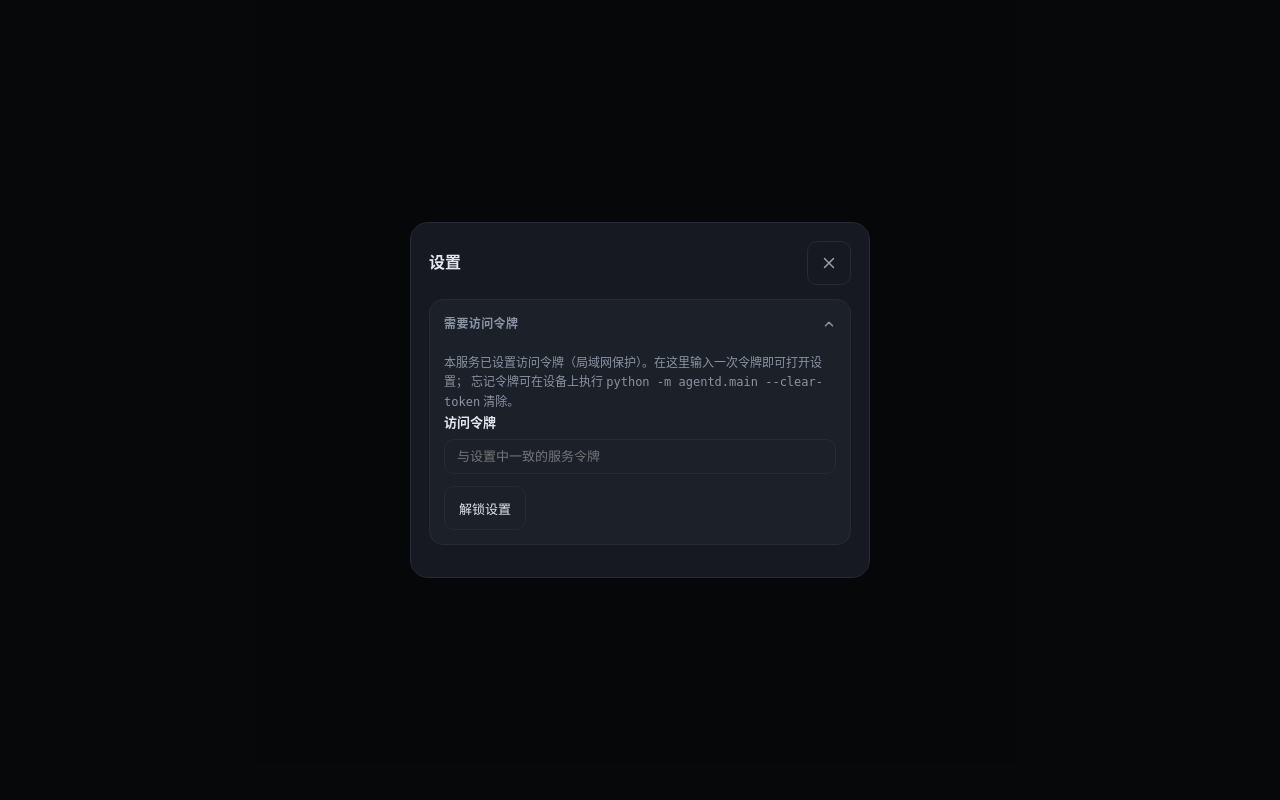
Scenario: SettingsPanel 令牌门禁 › 401 时显示令牌输入口并可解锁后加载设置
Check: the text "需要访问令牌" is shown, box [444,314,518,333]
Type "abc123" into the field with placeholder "与设置中一致的服务令牌" at (640, 457), box [444,439,836,474]
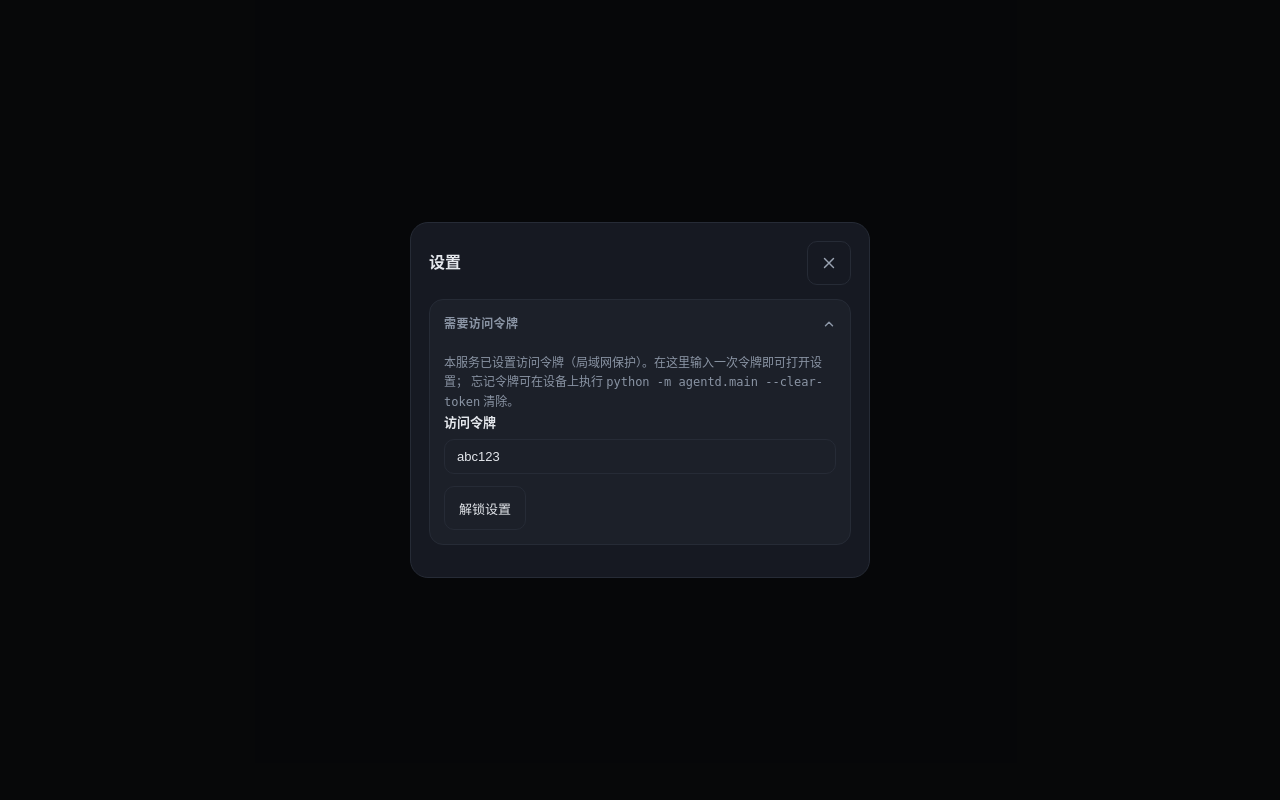
Click the button "解锁设置" at (485, 508), box [444,486,526,530]
(page scrolled)
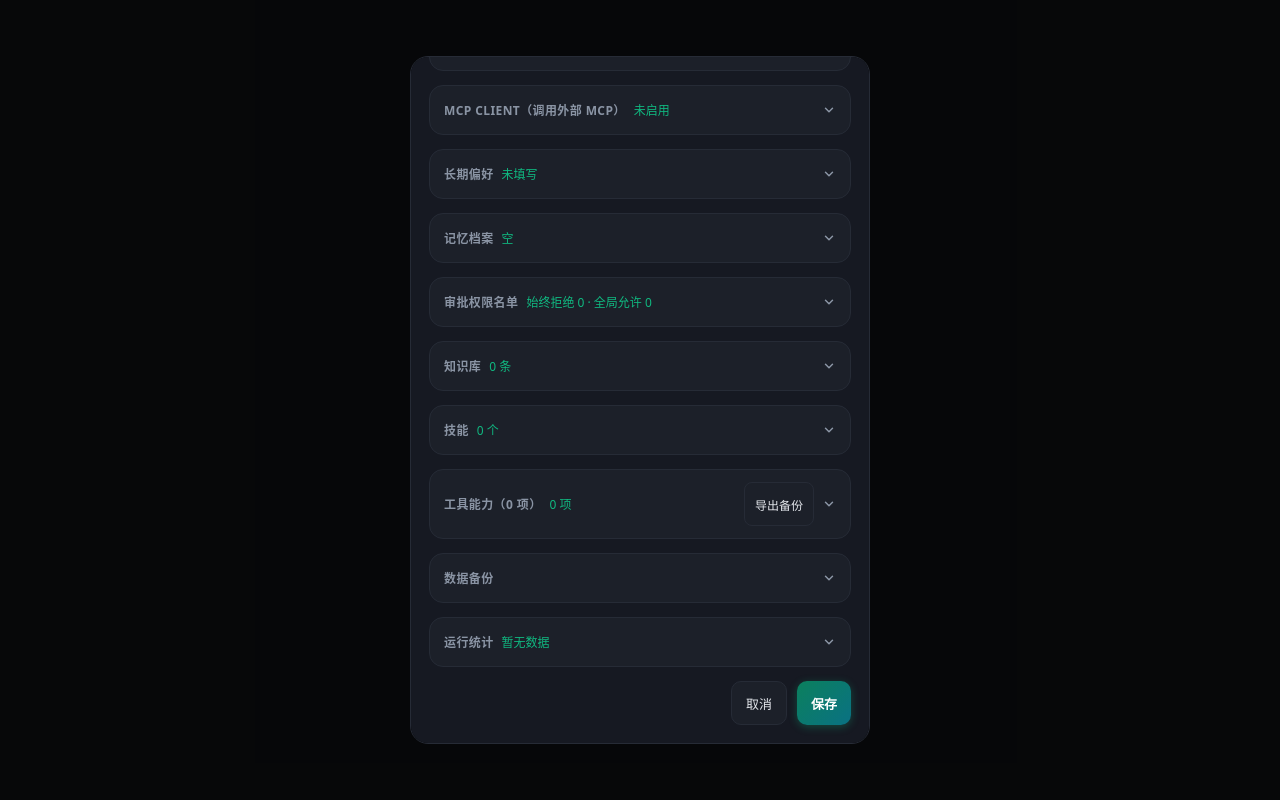
Check: the button "保存" is shown, box [797,681,851,725]
